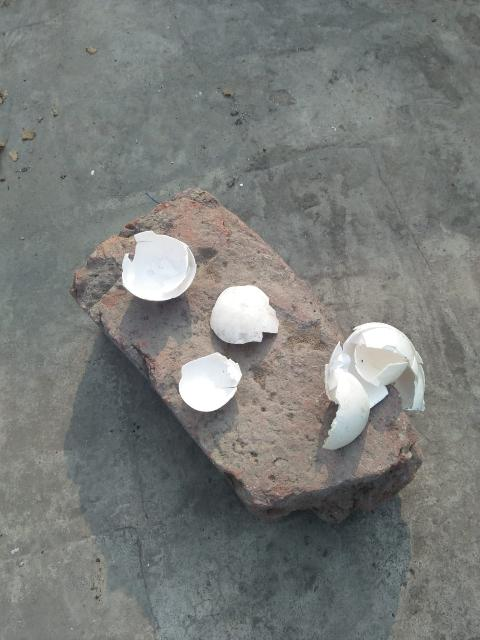Roto: (321, 320, 426, 451), (120, 228, 199, 302), (209, 284, 279, 345), (178, 351, 241, 411)
